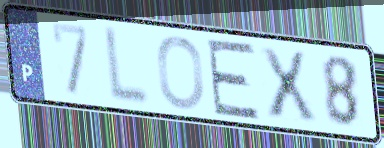7: (49, 20, 91, 99)
8: (319, 53, 363, 130)
E: (204, 38, 262, 122)
L: (103, 24, 152, 110)
O: (155, 34, 207, 112)
X: (256, 44, 320, 124)
